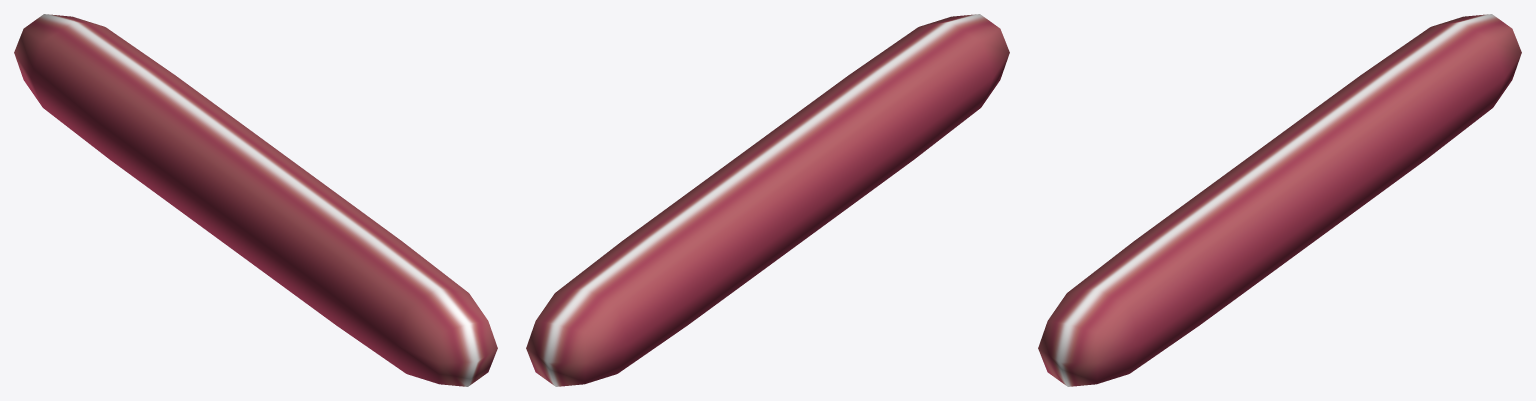
Rendered from Projectile.obj.
3 renders of one model, left to right at view 1: azimuth 30°, elevation 25°; view 2: azimuth 150°, elevation 25°; view 3: azimuth 330°, elevation 25°, orthographic.
Parts seen in each view (by area): view 1: Cube.003; view 2: Cube.003; view 3: Cube.003.
Boxes of the visible parts, <box> form: Cube.003: <box>14,14,497,386</box>; Cube.003: <box>526,14,1009,386</box>; Cube.003: <box>1038,14,1521,386</box>.
Bounding box in the file's own units: 1.89 × 1.89 × 16.05.
Materials: 1 (1 with a texture image).
